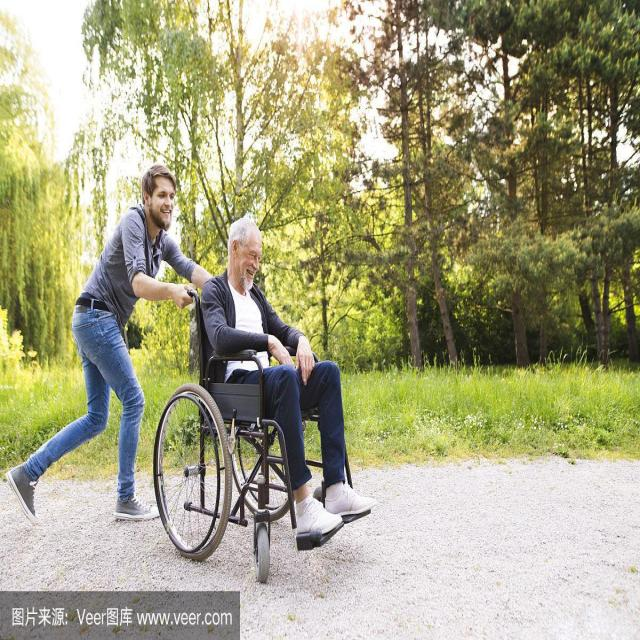wheelchairs: (145, 272, 376, 586)
